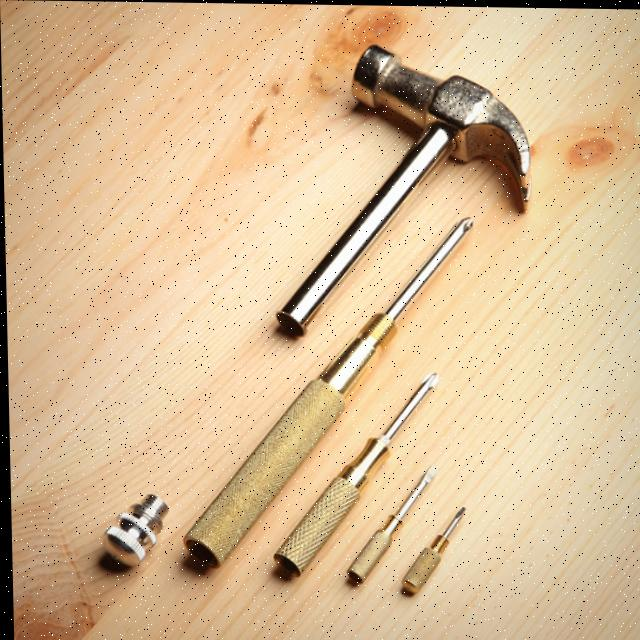Screwdriver: (182, 217, 471, 566), (287, 372, 437, 565), (345, 465, 434, 581), (401, 507, 462, 593)
